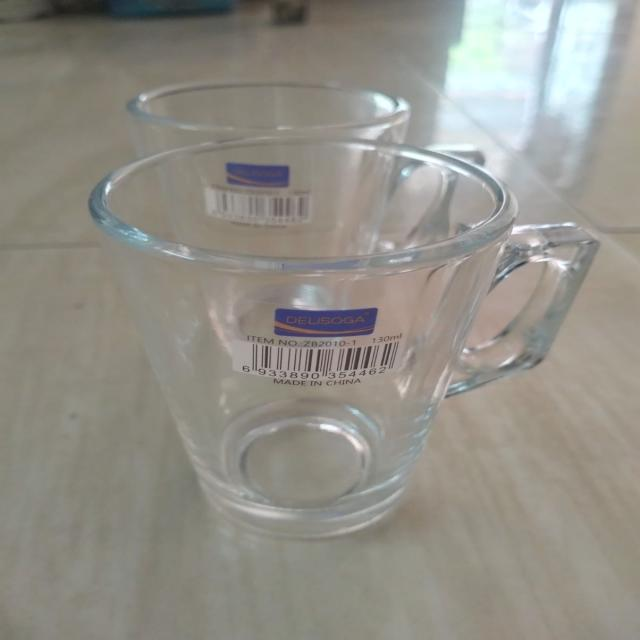glass-VX4N: (89, 134, 596, 541), (119, 75, 580, 408)
